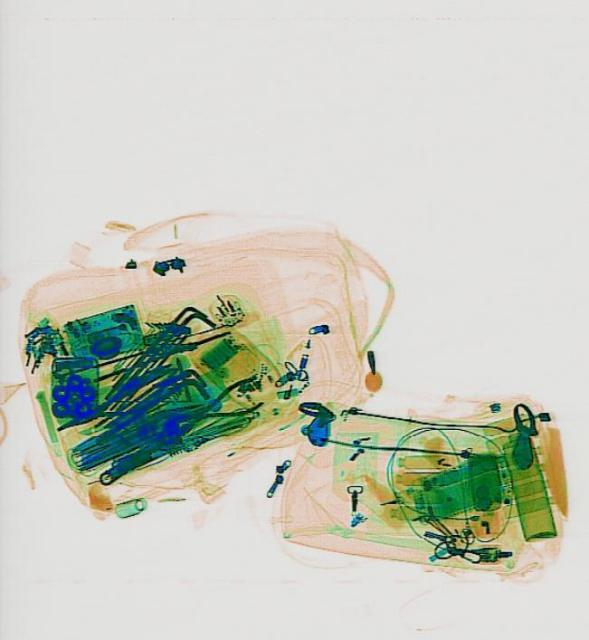Pliers: (47, 359, 184, 445), (173, 374, 266, 434)
Wrench: (93, 406, 196, 489)
